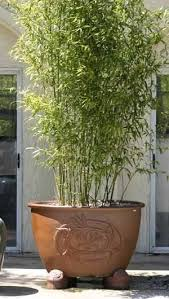bamboo: (8, 1, 161, 200)
